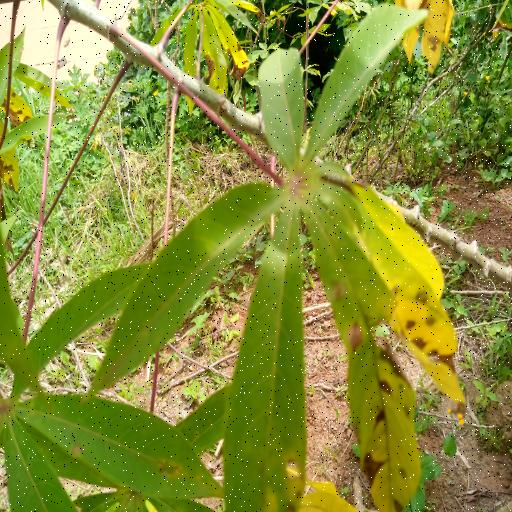Cassava_Brown_Leaf_Spot: (98, 9, 471, 512)
